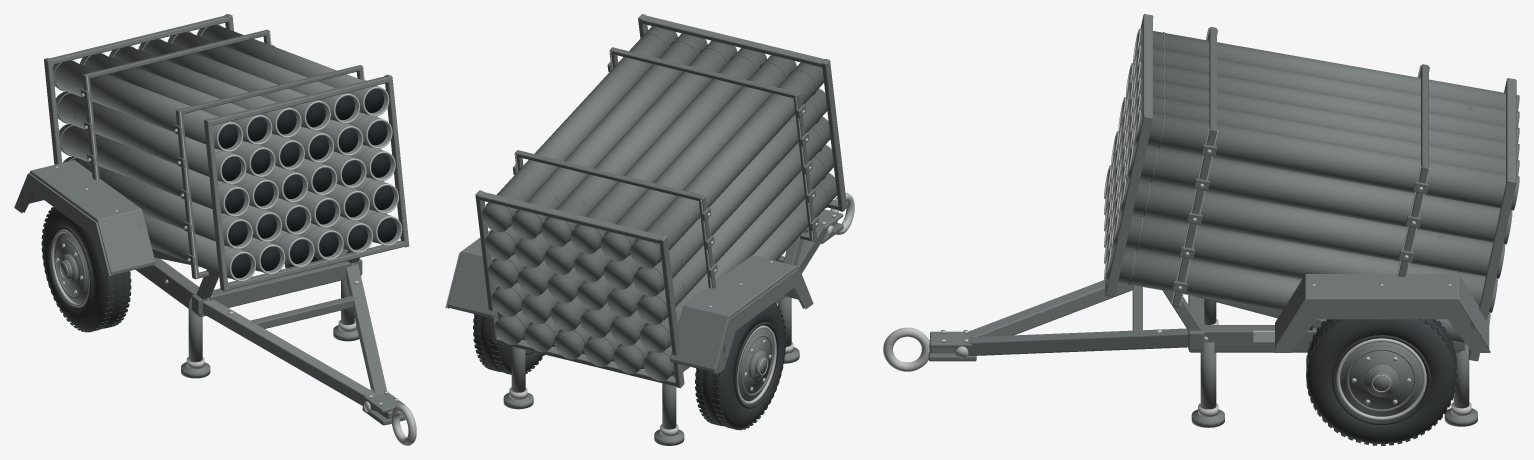
The model's file is unified-node-high.glb.
3 views of the same model, side by side, from view 1: azimuth 30°, elevation 25°; view 2: azimuth 150°, elevation 25°; view 3: azimuth 270°, elevation 25° (orthographic). The views are drawn at different scales.
Parts seen in each view (by area): view 1: LM_Tube_Bundle_Exterior-LM_paint.015-batch, LM_Tube_Bundle_Exterior-LM_dark.015-batch, LM_Rack_Frame_Exterior-LM_paint.015-batch, LM_Fenders-LM_paint.015-batch, LM_Drawbar_Tow_Eye-LM_paint.015-batch, LM_Tube_Bundle_Exterior-LM_steel.015-batch, LM_Wheel_Left_Pivot-LM_rubber.015-batch, LM_Rack_Frame_Exterior-LM_fitting.015-batch, LM_Carriage_Exterior-LM_fitting.015-batch, LM_Drawbar_Tow_Eye-LM_fitting.015-batch, LM_Display_Supports-LM_fitting.015-batch, LM_Wheel_Left_Pivot-LM_wheel.015-batch (+7 smaller); view 2: LM_Tube_Bundle_Exterior-LM_paint.015-batch, LM_Fenders-LM_paint.015-batch, LM_Rack_Frame_Exterior-LM_paint.015-batch, LM_Wheel_Left_Pivot-LM_rubber.015-batch, LM_Rack_Frame_Exterior-LM_fitting.015-batch, LM_Display_Supports-LM_fitting.015-batch, LM_Wheel_Right_Pivot-LM_rubber.015-batch, LM_Tube_Bundle_Exterior-LM_fitting.015-batch, LM_Wheel_Left_Pivot-LM_wheel.015-batch, LM_Wheel_Left_Pivot-LM_fitting.015-batch, LM_Drawbar_Tow_Eye-LM_paint.015-batch, LM_Display_Supports-LM_paint.015-batch (+3 smaller); view 3: LM_Tube_Bundle_Exterior-LM_paint.015-batch, LM_Wheel_Right_Pivot-LM_rubber.015-batch, LM_Fenders-LM_paint.015-batch, LM_Drawbar_Tow_Eye-LM_paint.015-batch, LM_Rack_Frame_Exterior-LM_paint.015-batch, LM_Rack_Frame_Exterior-LM_fitting.015-batch, LM_Tube_Bundle_Exterior-LM_steel.015-batch, LM_Wheel_Right_Pivot-LM_fitting.015-batch, LM_Carriage_Exterior-LM_fitting.015-batch, LM_Wheel_Right_Pivot-LM_wheel.015-batch, LM_Display_Supports-LM_fitting.015-batch, LM_Wheel_Right_Pivot-LM_steel.015-batch (+6 smaller).
Part boxes in pixels (x1,y1,x2,y2): LM_Tube_Bundle_Exterior-LM_paint.015-batch: (52,25,400,279); LM_Tube_Bundle_Exterior-LM_dark.015-batch: (218,89,396,277); LM_Rack_Frame_Exterior-LM_paint.015-batch: (44,14,409,299); LM_Fenders-LM_paint.015-batch: (14,160,155,277); LM_Drawbar_Tow_Eye-LM_paint.015-batch: (202,264,404,424); LM_Tube_Bundle_Exterior-LM_steel.015-batch: (216,86,402,281); LM_Wheel_Left_Pivot-LM_rubber.015-batch: (41,207,131,332); LM_Rack_Frame_Exterior-LM_fitting.015-batch: (82,29,364,279); LM_Carriage_Exterior-LM_fitting.015-batch: (135,249,362,317); LM_Drawbar_Tow_Eye-LM_fitting.015-batch: (250,296,405,425); LM_Display_Supports-LM_fitting.015-batch: (188,279,354,362); LM_Wheel_Left_Pivot-LM_wheel.015-batch: (54,233,89,303); LM_Tube_Bundle_Exterior-LM_paint.015-batch: (481,26,836,381); LM_Fenders-LM_paint.015-batch: (445,230,813,374); LM_Rack_Frame_Exterior-LM_paint.015-batch: (475,14,846,388); LM_Wheel_Left_Pivot-LM_rubber.015-batch: (695,302,786,430); LM_Rack_Frame_Exterior-LM_fitting.015-batch: (514,47,817,288); LM_Display_Supports-LM_fitting.015-batch: (511,296,791,429); LM_Wheel_Right_Pivot-LM_rubber.015-batch: (473,312,544,374); LM_Tube_Bundle_Exterior-LM_fitting.015-batch: (486,33,829,376); LM_Wheel_Left_Pivot-LM_wheel.015-batch: (738,329,773,401); LM_Wheel_Left_Pivot-LM_fitting.015-batch: (739,332,773,398); LM_Drawbar_Tow_Eye-LM_paint.015-batch: (797,209,843,273); LM_Display_Supports-LM_paint.015-batch: (503,347,799,445); LM_Tube_Bundle_Exterior-LM_paint.015-batch: (1105,28,1519,343); LM_Wheel_Right_Pivot-LM_rubber.015-batch: (1306,319,1456,445); LM_Fenders-LM_paint.015-batch: (1274,274,1490,352); LM_Drawbar_Tow_Eye-LM_paint.015-batch: (929,280,1188,355); LM_Rack_Frame_Exterior-LM_paint.015-batch: (1105,14,1516,361); LM_Rack_Frame_Exterior-LM_fitting.015-batch: (1172,27,1428,328); LM_Tube_Bundle_Exterior-LM_steel.015-batch: (1104,29,1140,279); LM_Wheel_Right_Pivot-LM_fitting.015-batch: (1343,345,1419,413); LM_Carriage_Exterior-LM_fitting.015-batch: (1188,295,1465,352); LM_Wheel_Right_Pivot-LM_wheel.015-batch: (1340,342,1422,416); LM_Display_Supports-LM_fitting.015-batch: (1200,299,1469,409); LM_Wheel_Right_Pivot-LM_steel.015-batch: (1336,338,1426,420).
Bounding box in the file's own units: 2.63 × 2.6 × 4.78.
6 materials, 3 textured.
